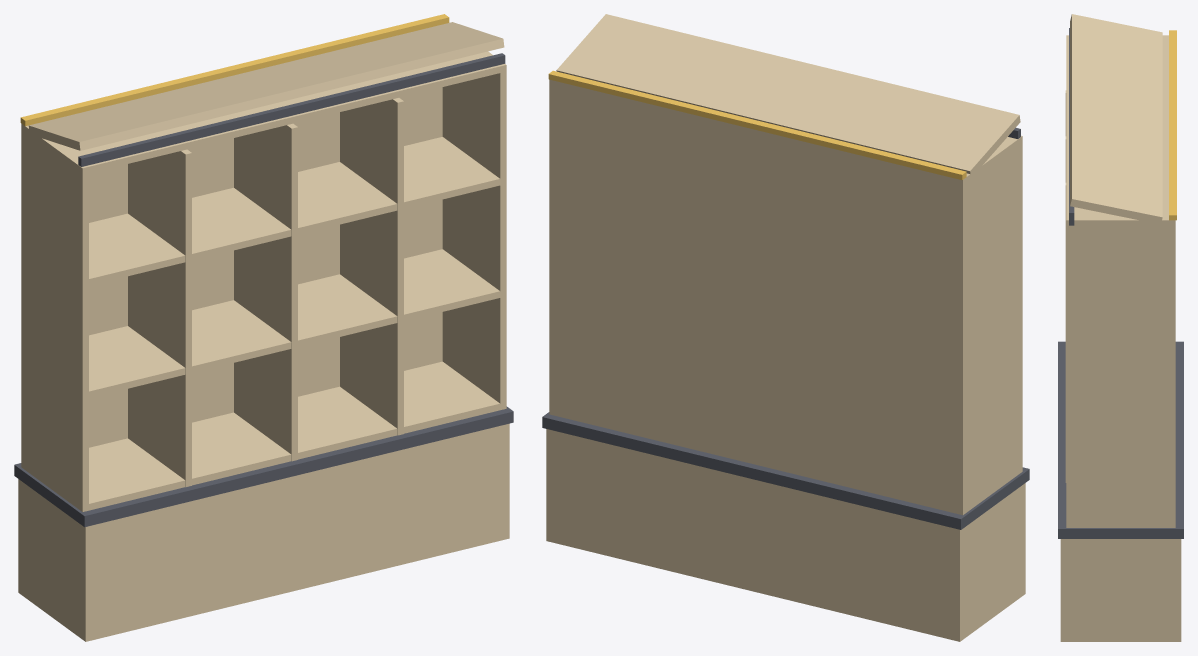
File: snowboard-gear-and-freestyle-riders-boot-wall-b082a823__27180.glb
3 renders of one model, left to right at view 1: azimuth 30°, elevation 25°; view 2: azimuth 150°, elevation 25°; view 3: azimuth 270°, elevation 25°, orthographic. The views are drawn at different scales.
Visible parts, largest first — view 1: boot-wall; view 2: boot-wall; view 3: boot-wall.
Boxes of the visible parts, x1,y1,x2,y2 form: boot-wall: (14, 14, 513, 641); boot-wall: (542, 14, 1029, 641); boot-wall: (1058, 14, 1183, 641).
Bounding box in the file's own units: 1.62 × 1.79 × 0.46.
